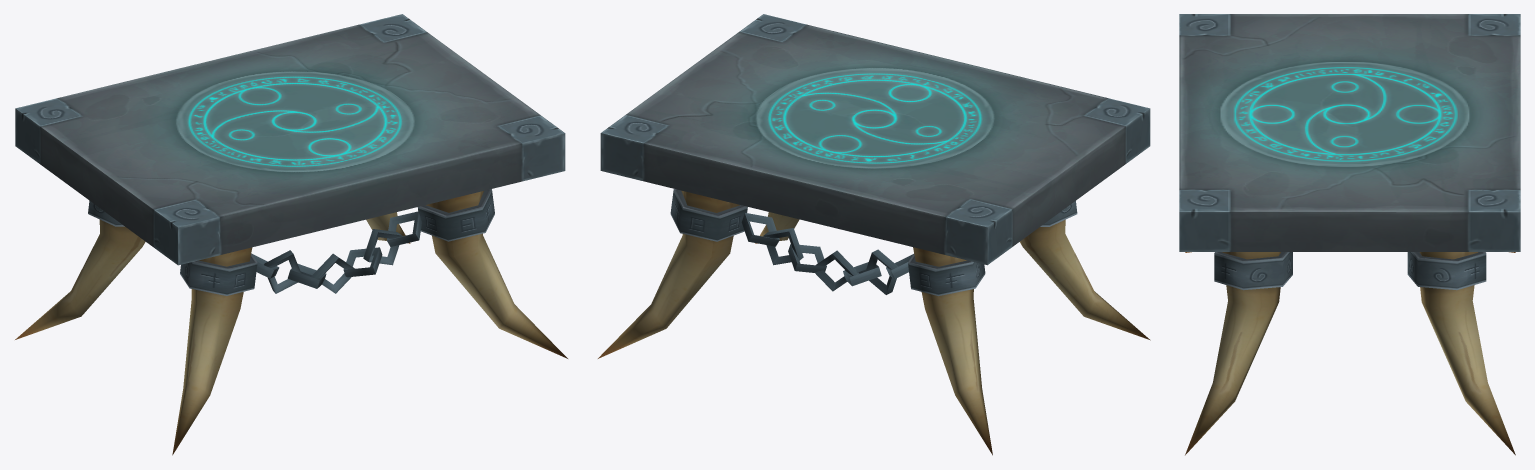
File: mage_table.fbx
3 views of the same model, side by side, from view 1: azimuth 30°, elevation 25°; view 2: azimuth 150°, elevation 25°; view 3: azimuth 270°, elevation 25° (orthographic). The views are drawn at different scales.
Visible parts, largest first — view 1: mage_tableMesh; view 2: mage_tableMesh; view 3: mage_tableMesh.
Part boxes in pixels (x1,y1,x2,y2): mage_tableMesh: (15, 14, 567, 455); mage_tableMesh: (598, 14, 1150, 455); mage_tableMesh: (1179, 14, 1520, 455).
Size of the model in its own units: 3.76 by 2.08 by 2.68.
Materials: 1 (1 with a texture image).
